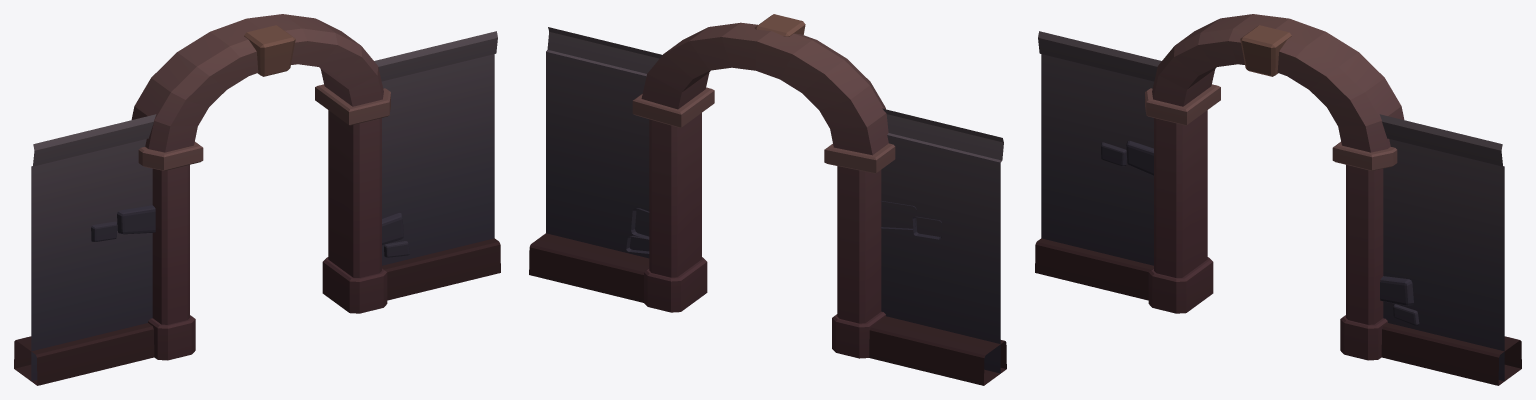
The model's file is SM_Door_Wall_Tall.fbx.
3 renders of one model, left to right at view 1: azimuth 30°, elevation 25°; view 2: azimuth 150°, elevation 25°; view 3: azimuth 330°, elevation 25°, orthographic.
Parts seen in each view (by area): view 1: SM_Door_Wall; view 2: SM_Door_Wall; view 3: SM_Door_Wall.
Boxes of the visible parts, x1,y1,x2,y2 form: SM_Door_Wall: (14,14,500,385); SM_Door_Wall: (529,14,1006,385); SM_Door_Wall: (1035,14,1521,385).
Bounding box in the file's own units: 400 × 243 × 55.82.
1 material, 1 textured.
